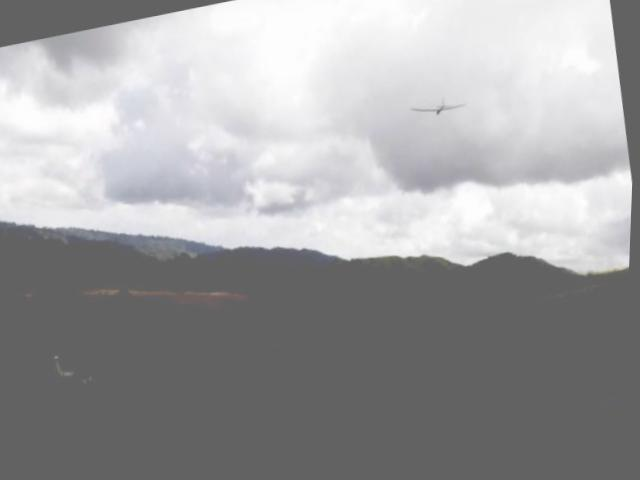iha: (409, 94, 472, 128)
